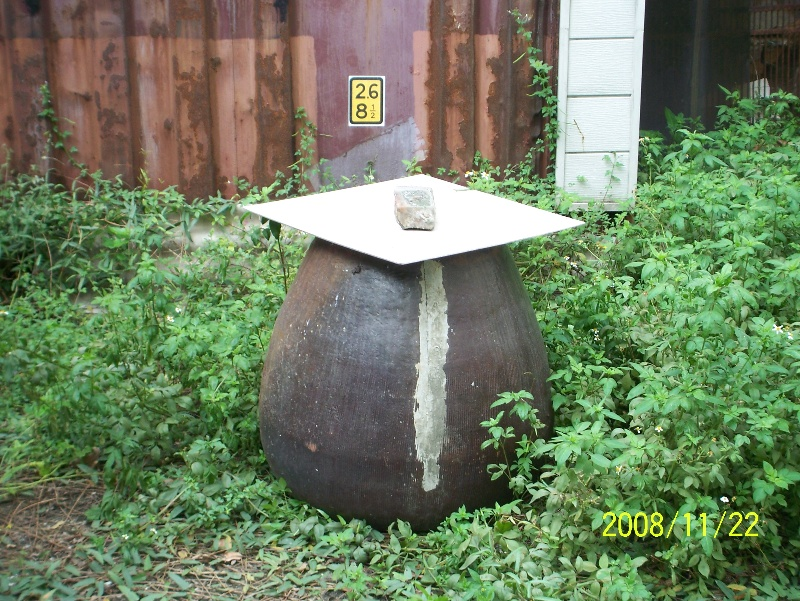bowl: (259, 237, 554, 536)
